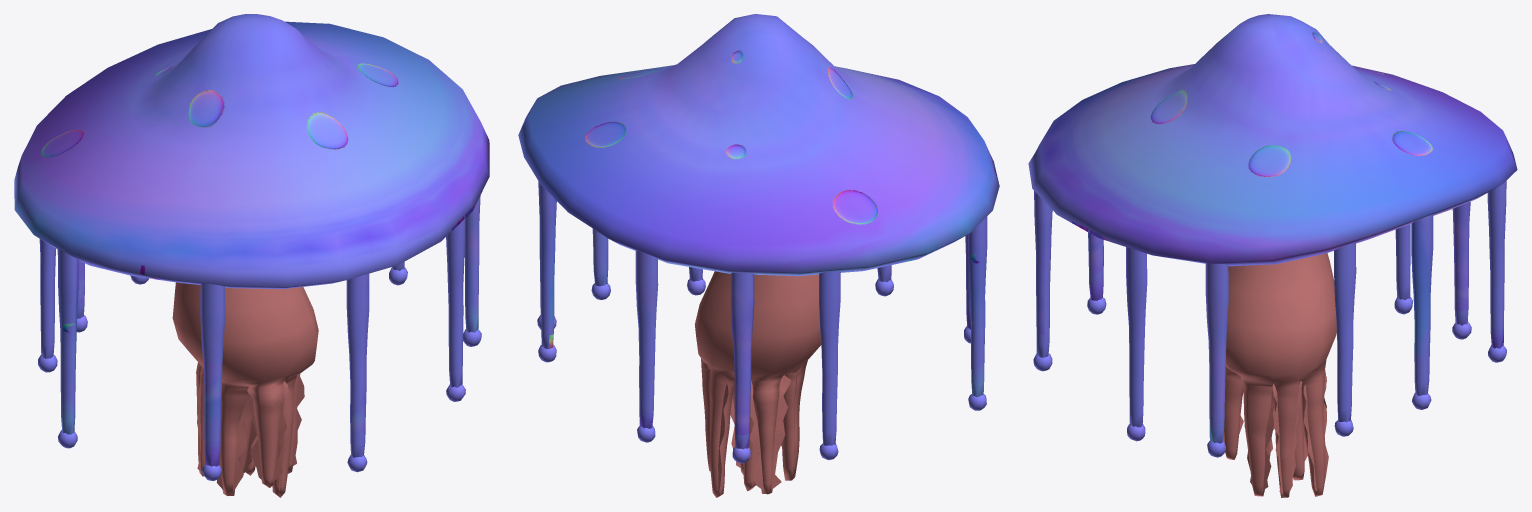
The model's file is fun guy new uv's.fbx.
The picture shows the model from 3 angles, left to right: view 1: azimuth 30°, elevation 25°; view 2: azimuth 150°, elevation 25°; view 3: azimuth 270°, elevation 25°; orthographic projection. The views are drawn at different scales.
Parts seen in each view (by area): view 1: fun_guy.001; view 2: fun_guy.001; view 3: fun_guy.001.
Part boxes in pixels (box(x1,y1,x2,y2)): fun_guy.001: box(14, 14, 489, 497); fun_guy.001: box(518, 14, 999, 497); fun_guy.001: box(1028, 14, 1517, 497).
Bounding box in the file's own units: 218 × 228 × 216.
